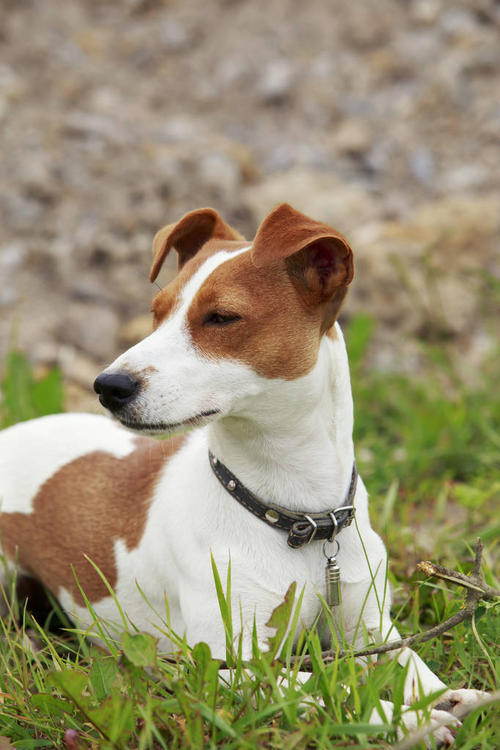dog: (82, 188, 400, 486)
